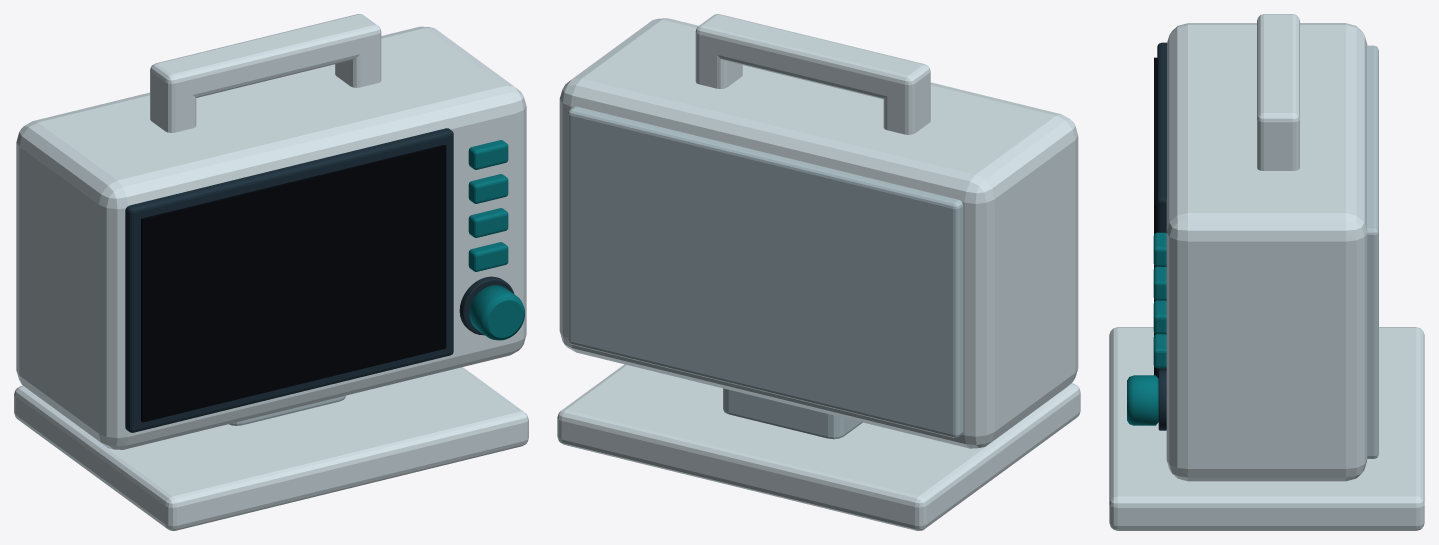
File: asset.fbx
The picture shows the model from 3 angles, left to right: view 1: azimuth 30°, elevation 25°; view 2: azimuth 150°, elevation 25°; view 3: azimuth 270°, elevation 25°; orthographic projection. The views are drawn at different scales.
Visible parts, largest first — view 1: radcare_patient_monitor_main_enclosure, radcare_patient_monitor_blank_ui_screen, radcare_patient_monitor_stable_base, radcare_patient_monitor_screen_bezel, radcare_patient_monitor_handle_top_grip, radcare_patient_monitor, radcare_patient_monitor_rotary_control_knob, radcare_patient_monitor_handle_left_support, radcare_patient_monitor_handle_right_support, radcare_patient_monitor_knob_mount; view 2: radcare_patient_monitor_rear_service_cover, radcare_patient_monitor_main_enclosure, radcare_patient_monitor_stable_base, radcare_patient_monitor_handle_top_grip, radcare_patient_monitor_pedestal_neck, radcare_patient_monitor_handle_left_support, radcare_patient_monitor_handle_right_support; view 3: radcare_patient_monitor_main_enclosure, radcare_patient_monitor_stable_base, radcare_patient_monitor_handle_top_grip, radcare_patient_monitor_rear_service_cover, radcare_patient_monitor_screen_bezel, radcare_patient_monitor, radcare_patient_monitor_rotary_control_knob, radcare_patient_monitor_handle_right_support, radcare_patient_monitor_blank_ui_screen, radcare_patient_monitor_knob_mount.
Boxes of the visible parts, x1,y1,x2,y2 form: radcare_patient_monitor_main_enclosure: (16,26,526,449); radcare_patient_monitor_blank_ui_screen: (141,144,446,422); radcare_patient_monitor_stable_base: (14,367,528,530); radcare_patient_monitor_screen_bezel: (125,128,453,432); radcare_patient_monitor_handle_top_grip: (150,14,381,98); radcare_patient_monitor: (468,140,508,271); radcare_patient_monitor_rotary_control_knob: (469,285,524,340); radcare_patient_monitor_handle_left_support: (150,84,196,132); radcare_patient_monitor_handle_right_support: (335,46,381,87); radcare_patient_monitor_knob_mount: (459,276,514,335); radcare_patient_monitor_rear_service_cover: (568,106,963,437); radcare_patient_monitor_main_enclosure: (559,18,1078,448); radcare_patient_monitor_stable_base: (557,364,1080,530); radcare_patient_monitor_handle_top_grip: (695,14,930,100); radcare_patient_monitor_pedestal_neck: (723,388,862,439); radcare_patient_monitor_handle_left_support: (883,86,930,134); radcare_patient_monitor_handle_right_support: (695,47,742,88); radcare_patient_monitor_main_enclosure: (1166,23,1367,481); radcare_patient_monitor_stable_base: (1109,327,1424,530); radcare_patient_monitor_handle_top_grip: (1257,14,1299,137); radcare_patient_monitor_rear_service_cover: (1367,45,1378,458); radcare_patient_monitor_screen_bezel: (1157,42,1166,378); radcare_patient_monitor: (1153,232,1166,368); radcare_patient_monitor_rotary_control_knob: (1127,375,1158,425); radcare_patient_monitor_handle_right_support: (1257,133,1299,170); radcare_patient_monitor_blank_ui_screen: (1154,57,1157,376); radcare_patient_monitor_knob_mount: (1158,370,1166,430).
Size of the model in its own units: 0.34 by 0.3 by 0.22.
